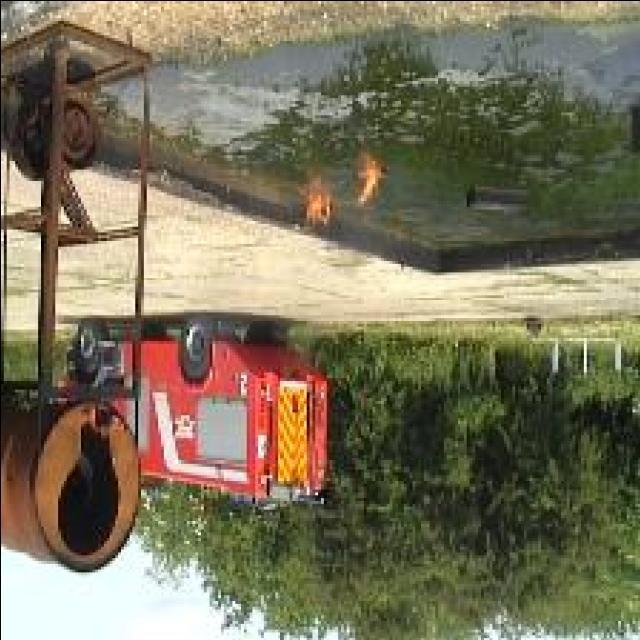Fire: (304, 193, 330, 227), (360, 168, 377, 206)
